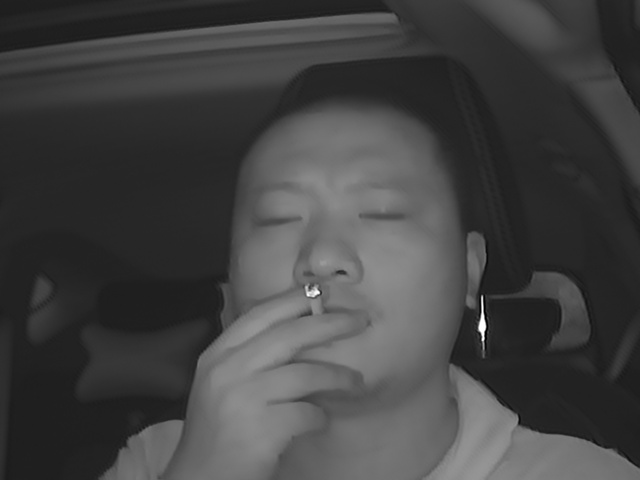hand: (218, 278, 369, 441)
